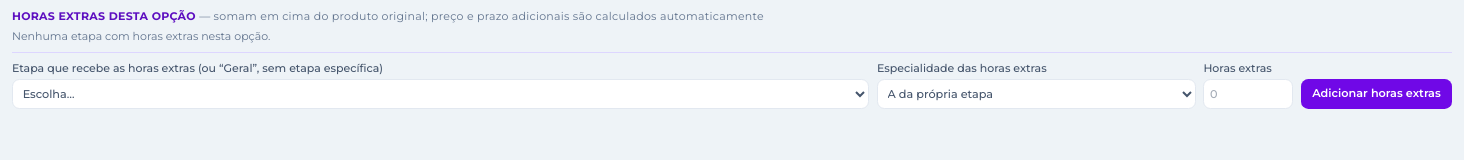
Scenario: variação: horas extras por etapa › escolher a etapa e informar as horas cria o impacto de esforço e mostra a especialidade e o custo
Later steps or results of the test are not shown.
Expected: the text "Nenhuma etapa com horas extras nesta opção." is shown, [12, 29, 270, 43]
Note: sem escolher a etapa / sem horas: avisa o motivo
Click the button "Adicionar horas extras" at (1376, 94), box [1301, 79, 1452, 109]
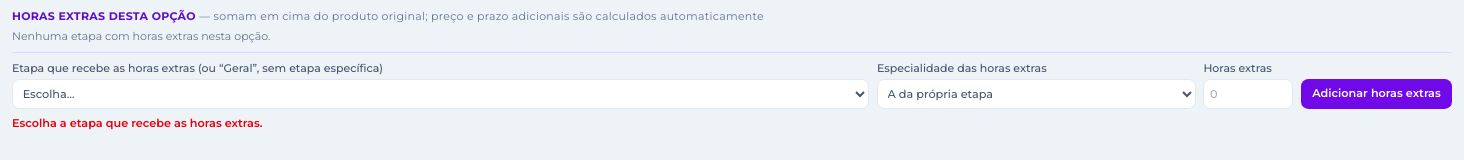
Expected: the message with test id "adjust-error" shows "Escolha a etapa", [12, 116, 262, 130]
Select "Criar campanhas (Campanhas) · Gestor" in the dropdown named "Etapa que recebe horas extras" at (441, 94), box [12, 79, 870, 109]
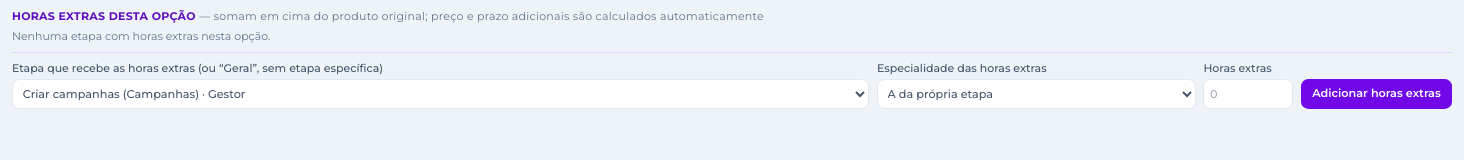
Click the button "Adicionar horas extras" at (1376, 94), box [1301, 79, 1452, 109]
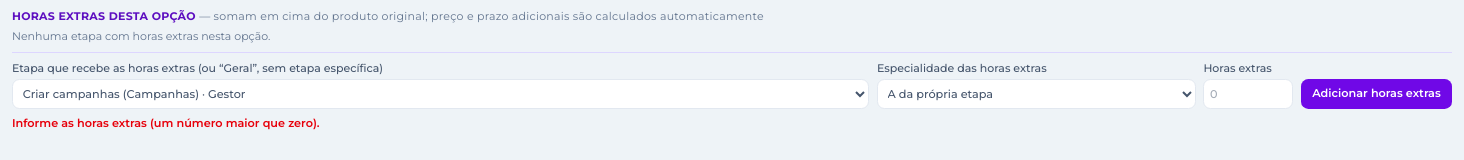
Expected: the message with test id "adjust-error" shows "Informe as horas", [12, 116, 320, 130]
